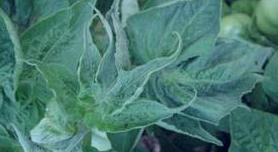Tomato leaf mosaic virus: (16, 0, 108, 103), (125, 0, 237, 79), (102, 36, 182, 119), (91, 93, 195, 135)
